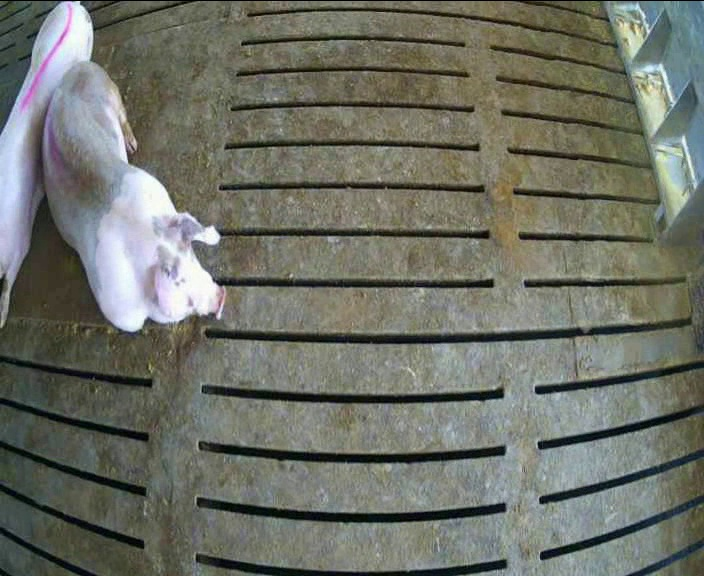pig: (42, 61, 224, 331), (0, 2, 91, 327)
